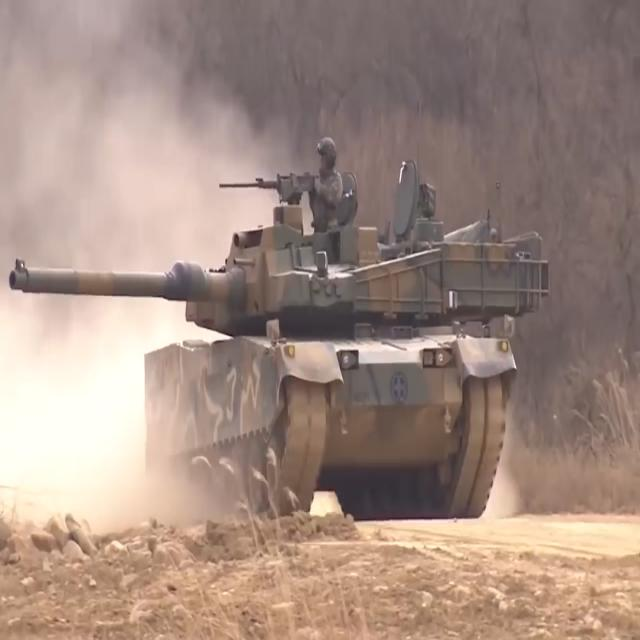korea tank: (8, 135, 552, 524)
